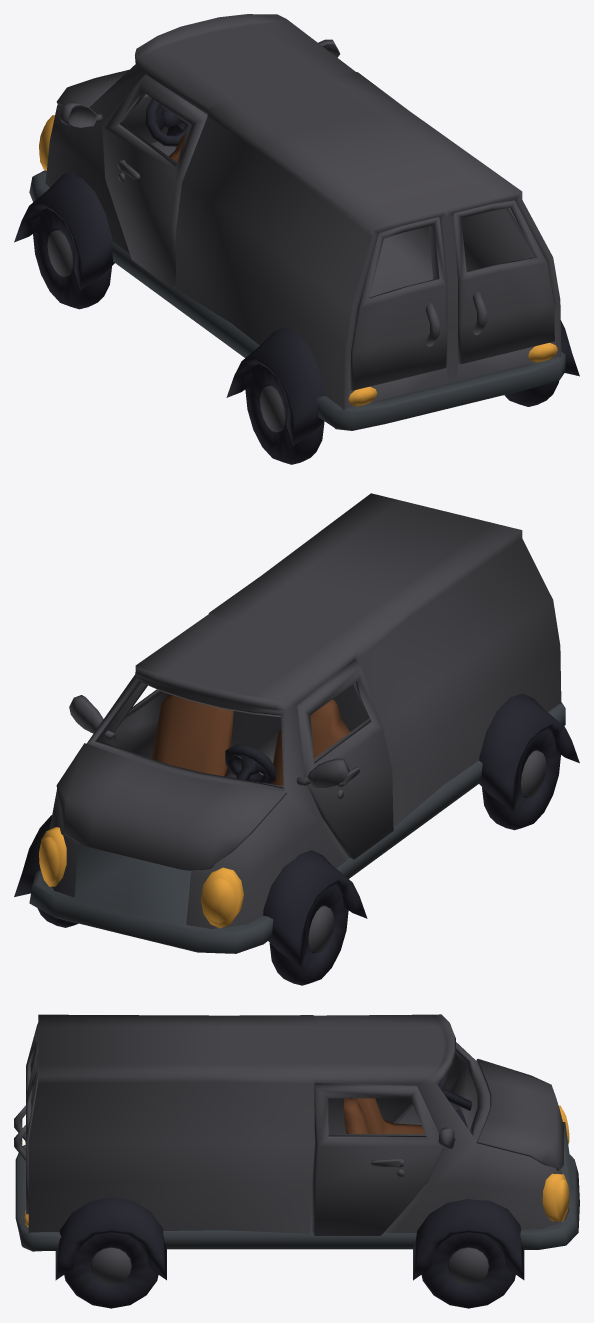
Rendered from Van.fbx.
3 renders of one model, top to bottom at view 1: azimuth 30°, elevation 25°; view 2: azimuth 150°, elevation 25°; view 3: azimuth 270°, elevation 25°, orthographic. The views are drawn at different scales.
Visible parts, largest first — view 1: Cube, Cube.002, Cylinder, Cube.001, Cube.003, Cylinder.001, Torus, Cube.008, Cube.007; view 2: Cube, Cylinder, Cube.008, Cube.003, Cube.001, Cube.006, Cylinder.001, Cube.007, Torus; view 3: Cube, Cylinder, Cube.001, Cube.003, Cube.008, Cube.006, Cube.002, Cylinder.001, Torus.
Boxes of the visible parts, x1=… form: Cube: x1=45, y1=14, x2=561, y2=410; Cube.002: x1=350, y1=200, x2=554, y2=390; Cylinder: x1=14, y1=171, x2=579, y2=464; Cube.001: x1=102, y1=74, x2=207, y2=288; Cube.003: x1=29, y1=170, x2=565, y2=430; Cylinder.001: x1=39, y1=115, x2=557, y2=406; Torus: x1=146, y1=98, x2=189, y2=146; Cube.008: x1=56, y1=69, x2=129, y2=107; Cube.007: x1=59, y1=39, x2=339, y2=128; Cube: x1=49, y1=493, x2=561, y2=929; Cylinder: x1=14, y1=693, x2=579, y2=985; Cube.008: x1=56, y1=743, x2=286, y2=870; Cube.003: x1=29, y1=702, x2=565, y2=953; Cube.001: x1=115, y1=659, x2=393, y2=859; Cube.006: x1=151, y1=694, x2=349, y2=785; Cylinder.001: x1=39, y1=827, x2=243, y2=928; Cube.007: x1=69, y1=695, x2=349, y2=787; Torus: x1=225, y1=744, x2=275, y2=783; Cube: x1=28, y1=1014, x2=569, y2=1233; Cylinder: x1=55, y1=1109, x2=524, y2=1308; Cube.001: x1=311, y1=1083, x2=442, y2=1235; Cube.003: x1=15, y1=1122, x2=579, y2=1251; Cube.008: x1=476, y1=1059, x2=563, y2=1170; Cube.006: x1=343, y1=1098, x2=424, y2=1133; Cube.002: x1=14, y1=1023, x2=38, y2=1214; Cylinder.001: x1=24, y1=1105, x2=569, y2=1226; Torus: x1=438, y1=1073, x2=472, y2=1110.
Size of the model in its own units: 243 by 210 by 492.
